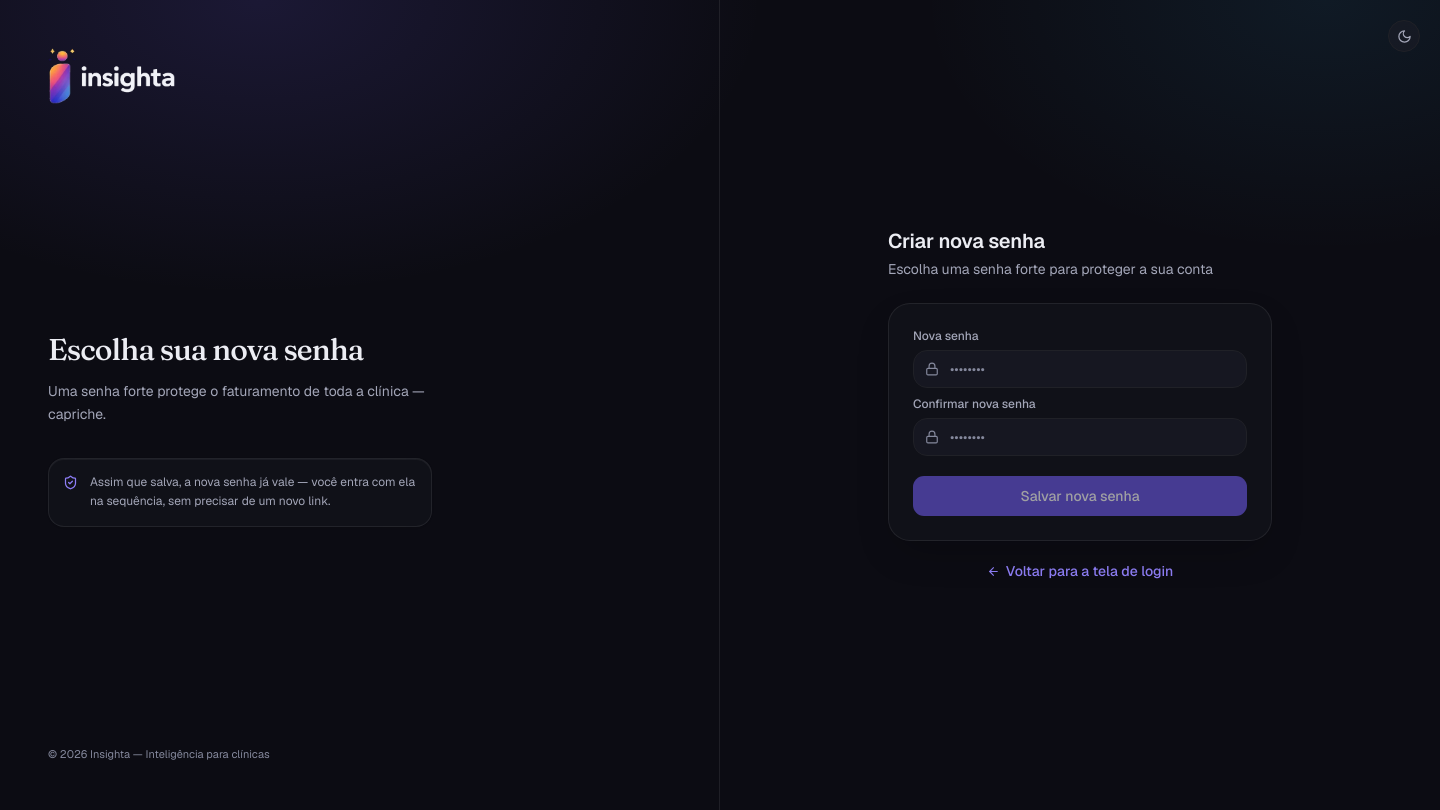
Scenario: ResetPasswordPage › com token válido, envia a nova senha e mostra a confirmação
Type "senha-forte-123" into the password field labelled "Nova senha" at (1080, 369), box [913,350,1247,388]
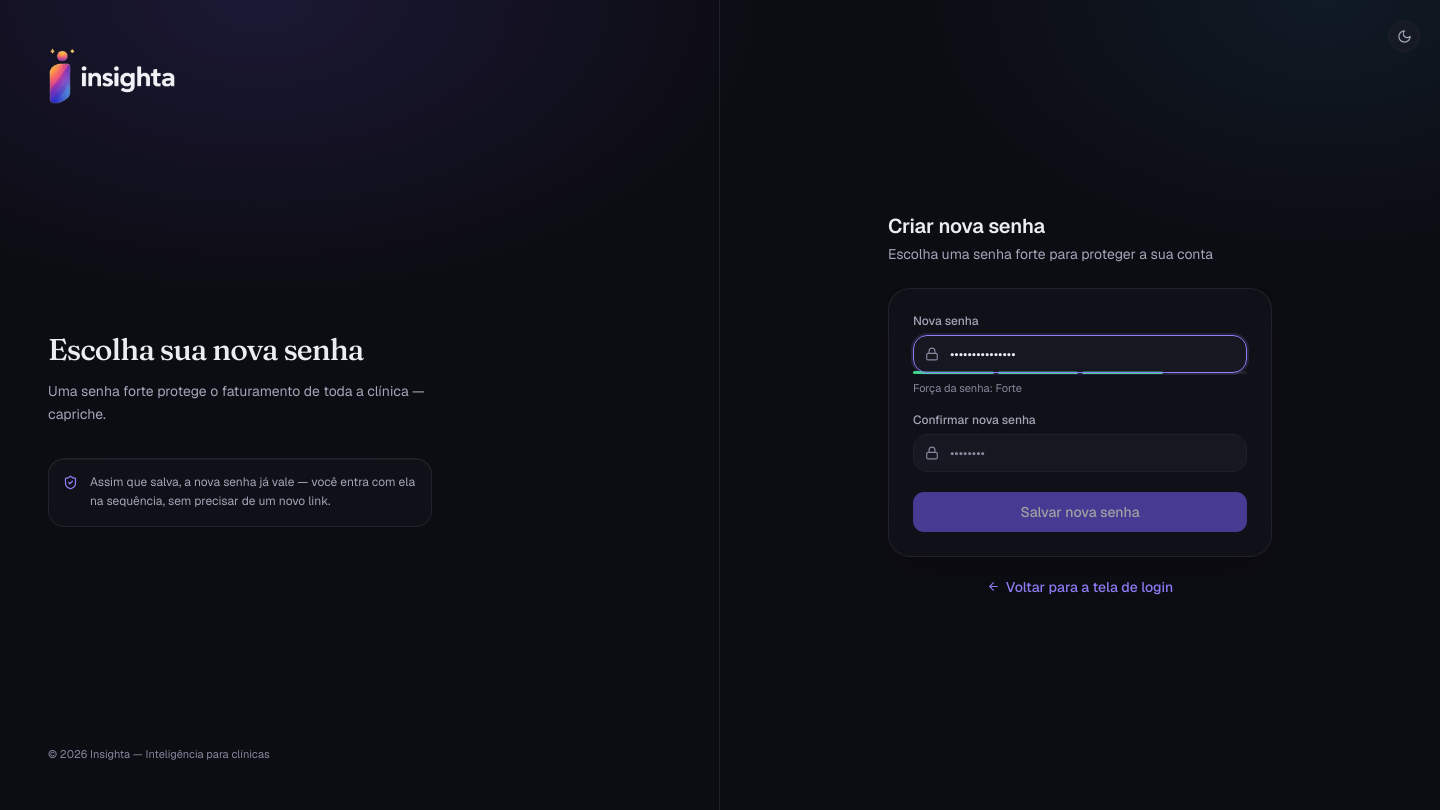
Type "senha-forte-123" into the password field labelled "Confirmar nova senha" at (1080, 453), box [913,434,1247,472]
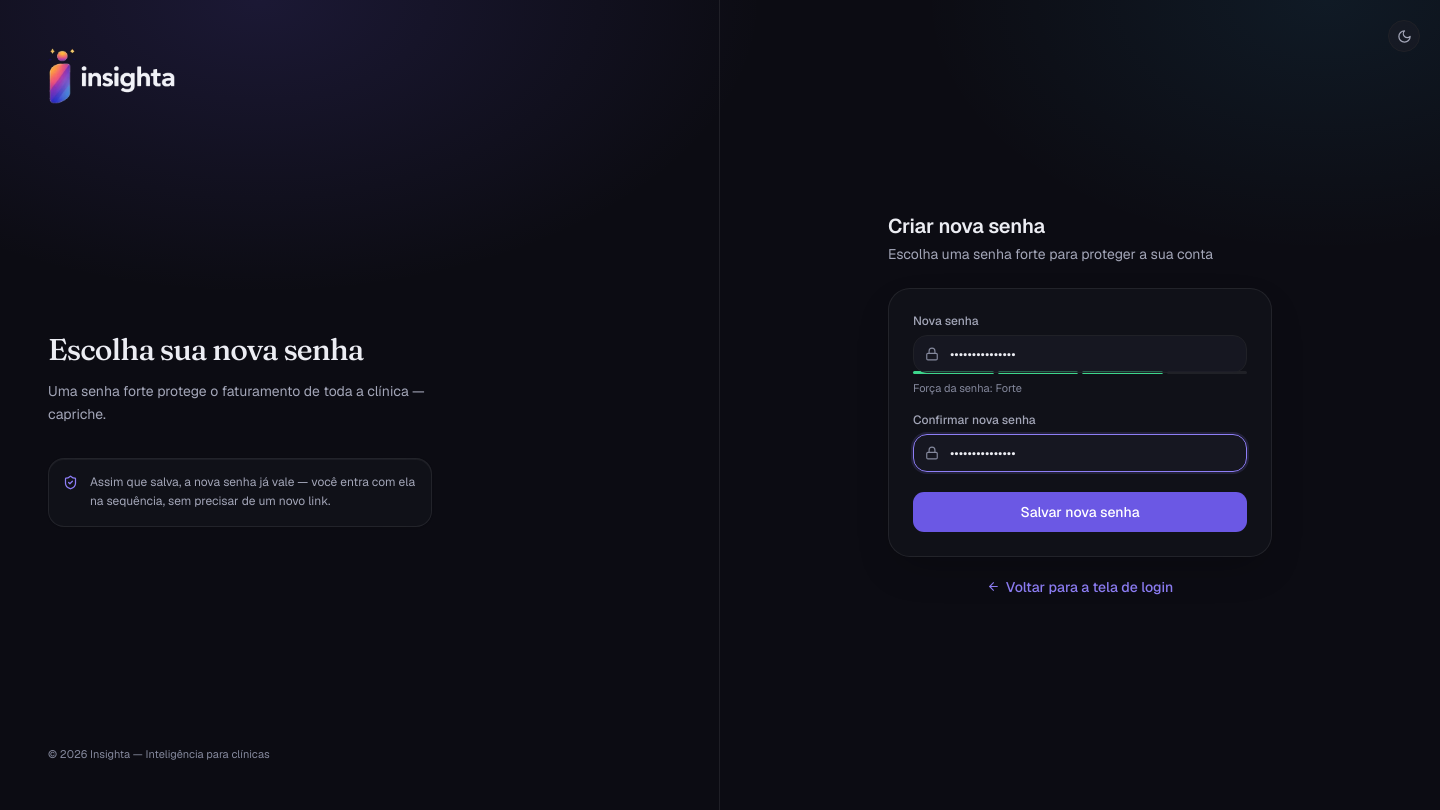
Click the button "Salvar nova senha" at (1080, 512), box [913,492,1247,532]
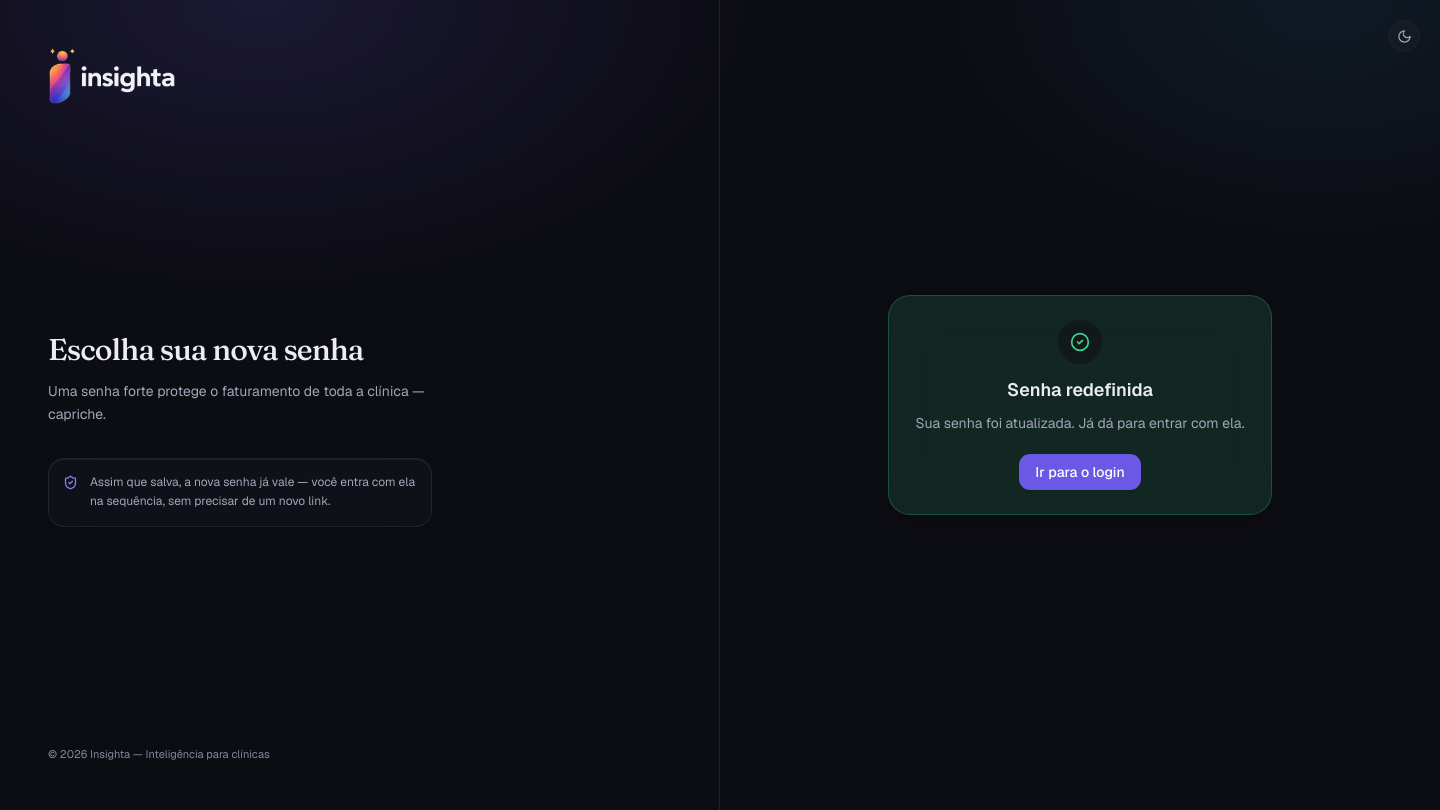
Result: the heading "Senha redefinida" is shown at [1007,378,1153,401]
